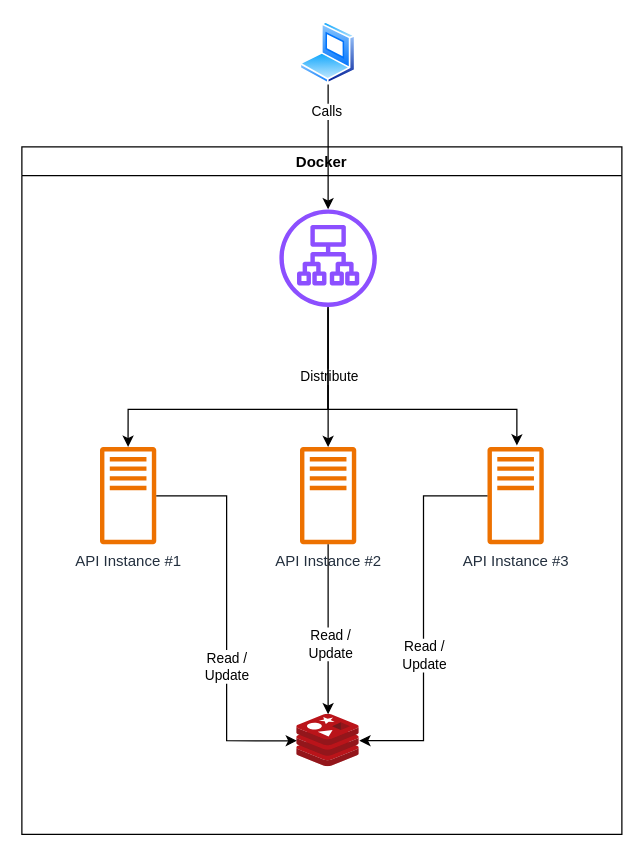
This 644x856 diagram has some shape labels left out. The centre of each missing label's shape, as x and y in pixels:
Load Balancer (Nginx): the point at 327,257
Shared Limiter (Redis): the point at 327,740
